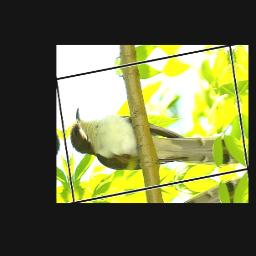Cuckoo: (66, 77, 243, 196)
